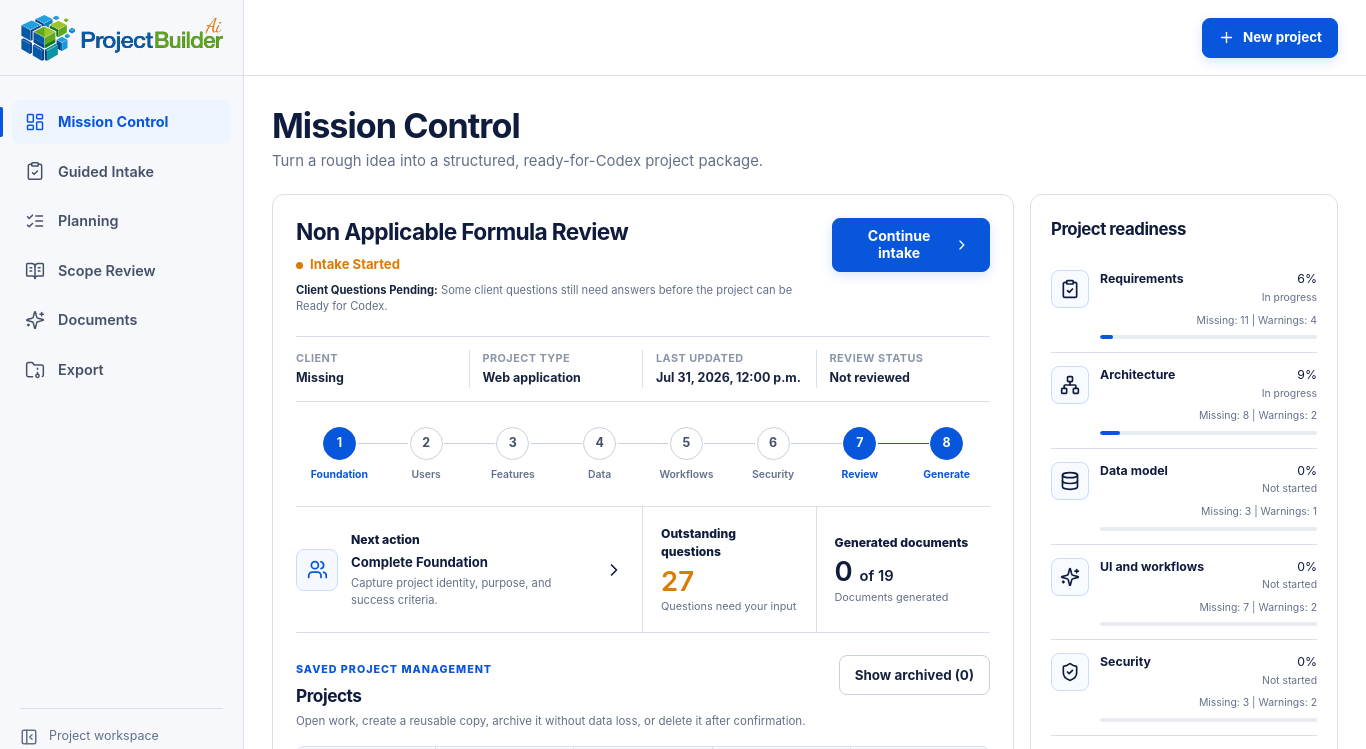
App - review Generation › does not show the formula review panel when the summary is not applicable
Click the button "Scope Review". click: click(122, 271)
box: [12,249,231,292]
(page scrolled)
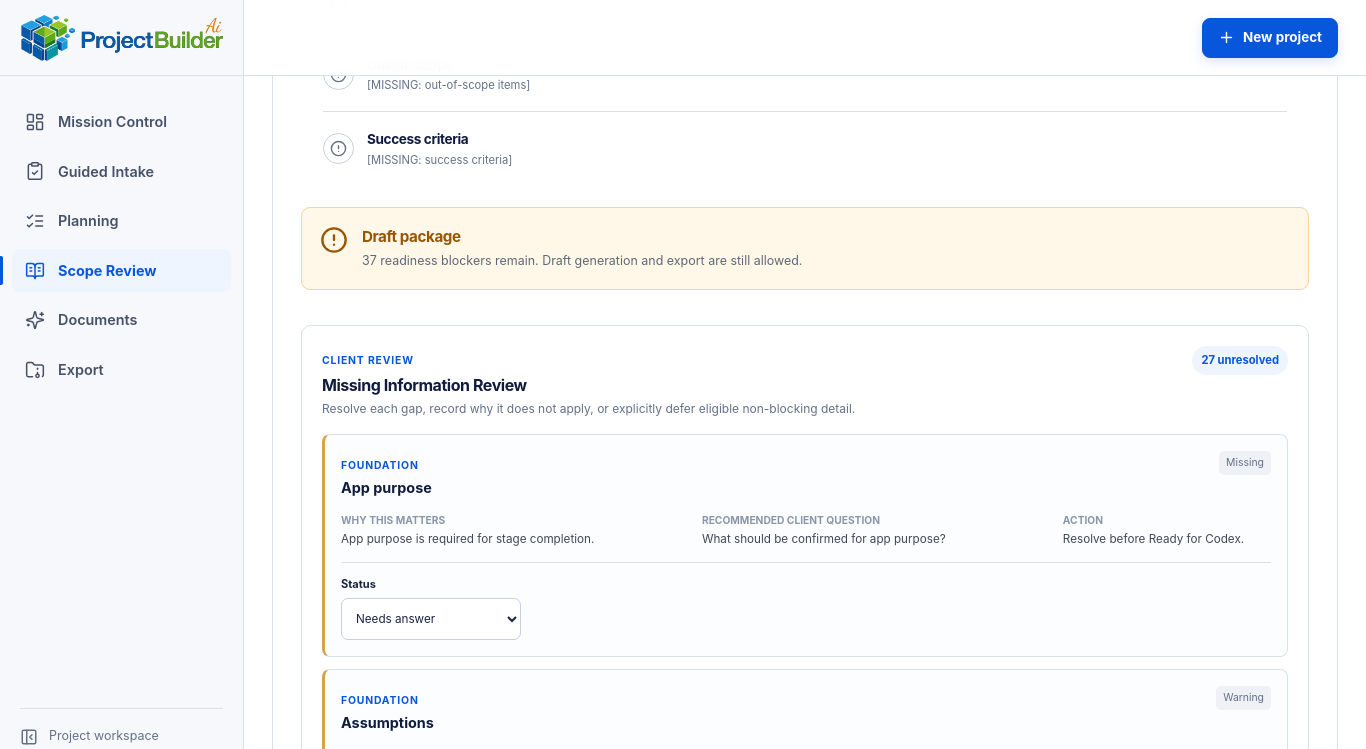
Expected: the heading "Missing Information Review" is shown, [322,375,527,395]
